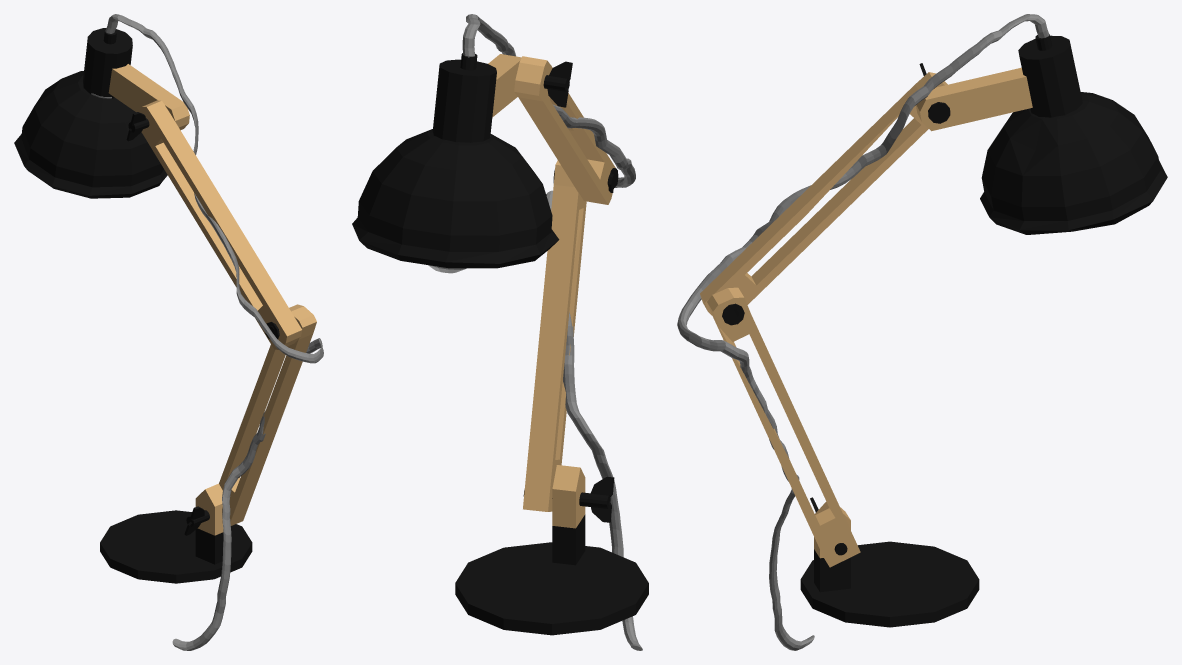
The model's file is lampdesk.glb.
3 views of the same model, side by side, from view 1: azimuth 30°, elevation 25°; view 2: azimuth 150°, elevation 25°; view 3: azimuth 270°, elevation 25° (orthographic). The views are drawn at different scales.
Parts seen in each view (by area): view 1: node_MeshObject-118867968-PolyPaper21; view 2: node_MeshObject-118867968-PolyPaper21; view 3: node_MeshObject-118867968-PolyPaper21.
Boxes of the visible parts, x1=… form: node_MeshObject-118867968-PolyPaper21: x1=14, y1=14, x2=323, y2=650; node_MeshObject-118867968-PolyPaper21: x1=352, y1=14, x2=648, y2=650; node_MeshObject-118867968-PolyPaper21: x1=677, y1=14, x2=1167, y2=650.
Size of the model in its own units: 0.3454 by 1.25 by 0.851.
